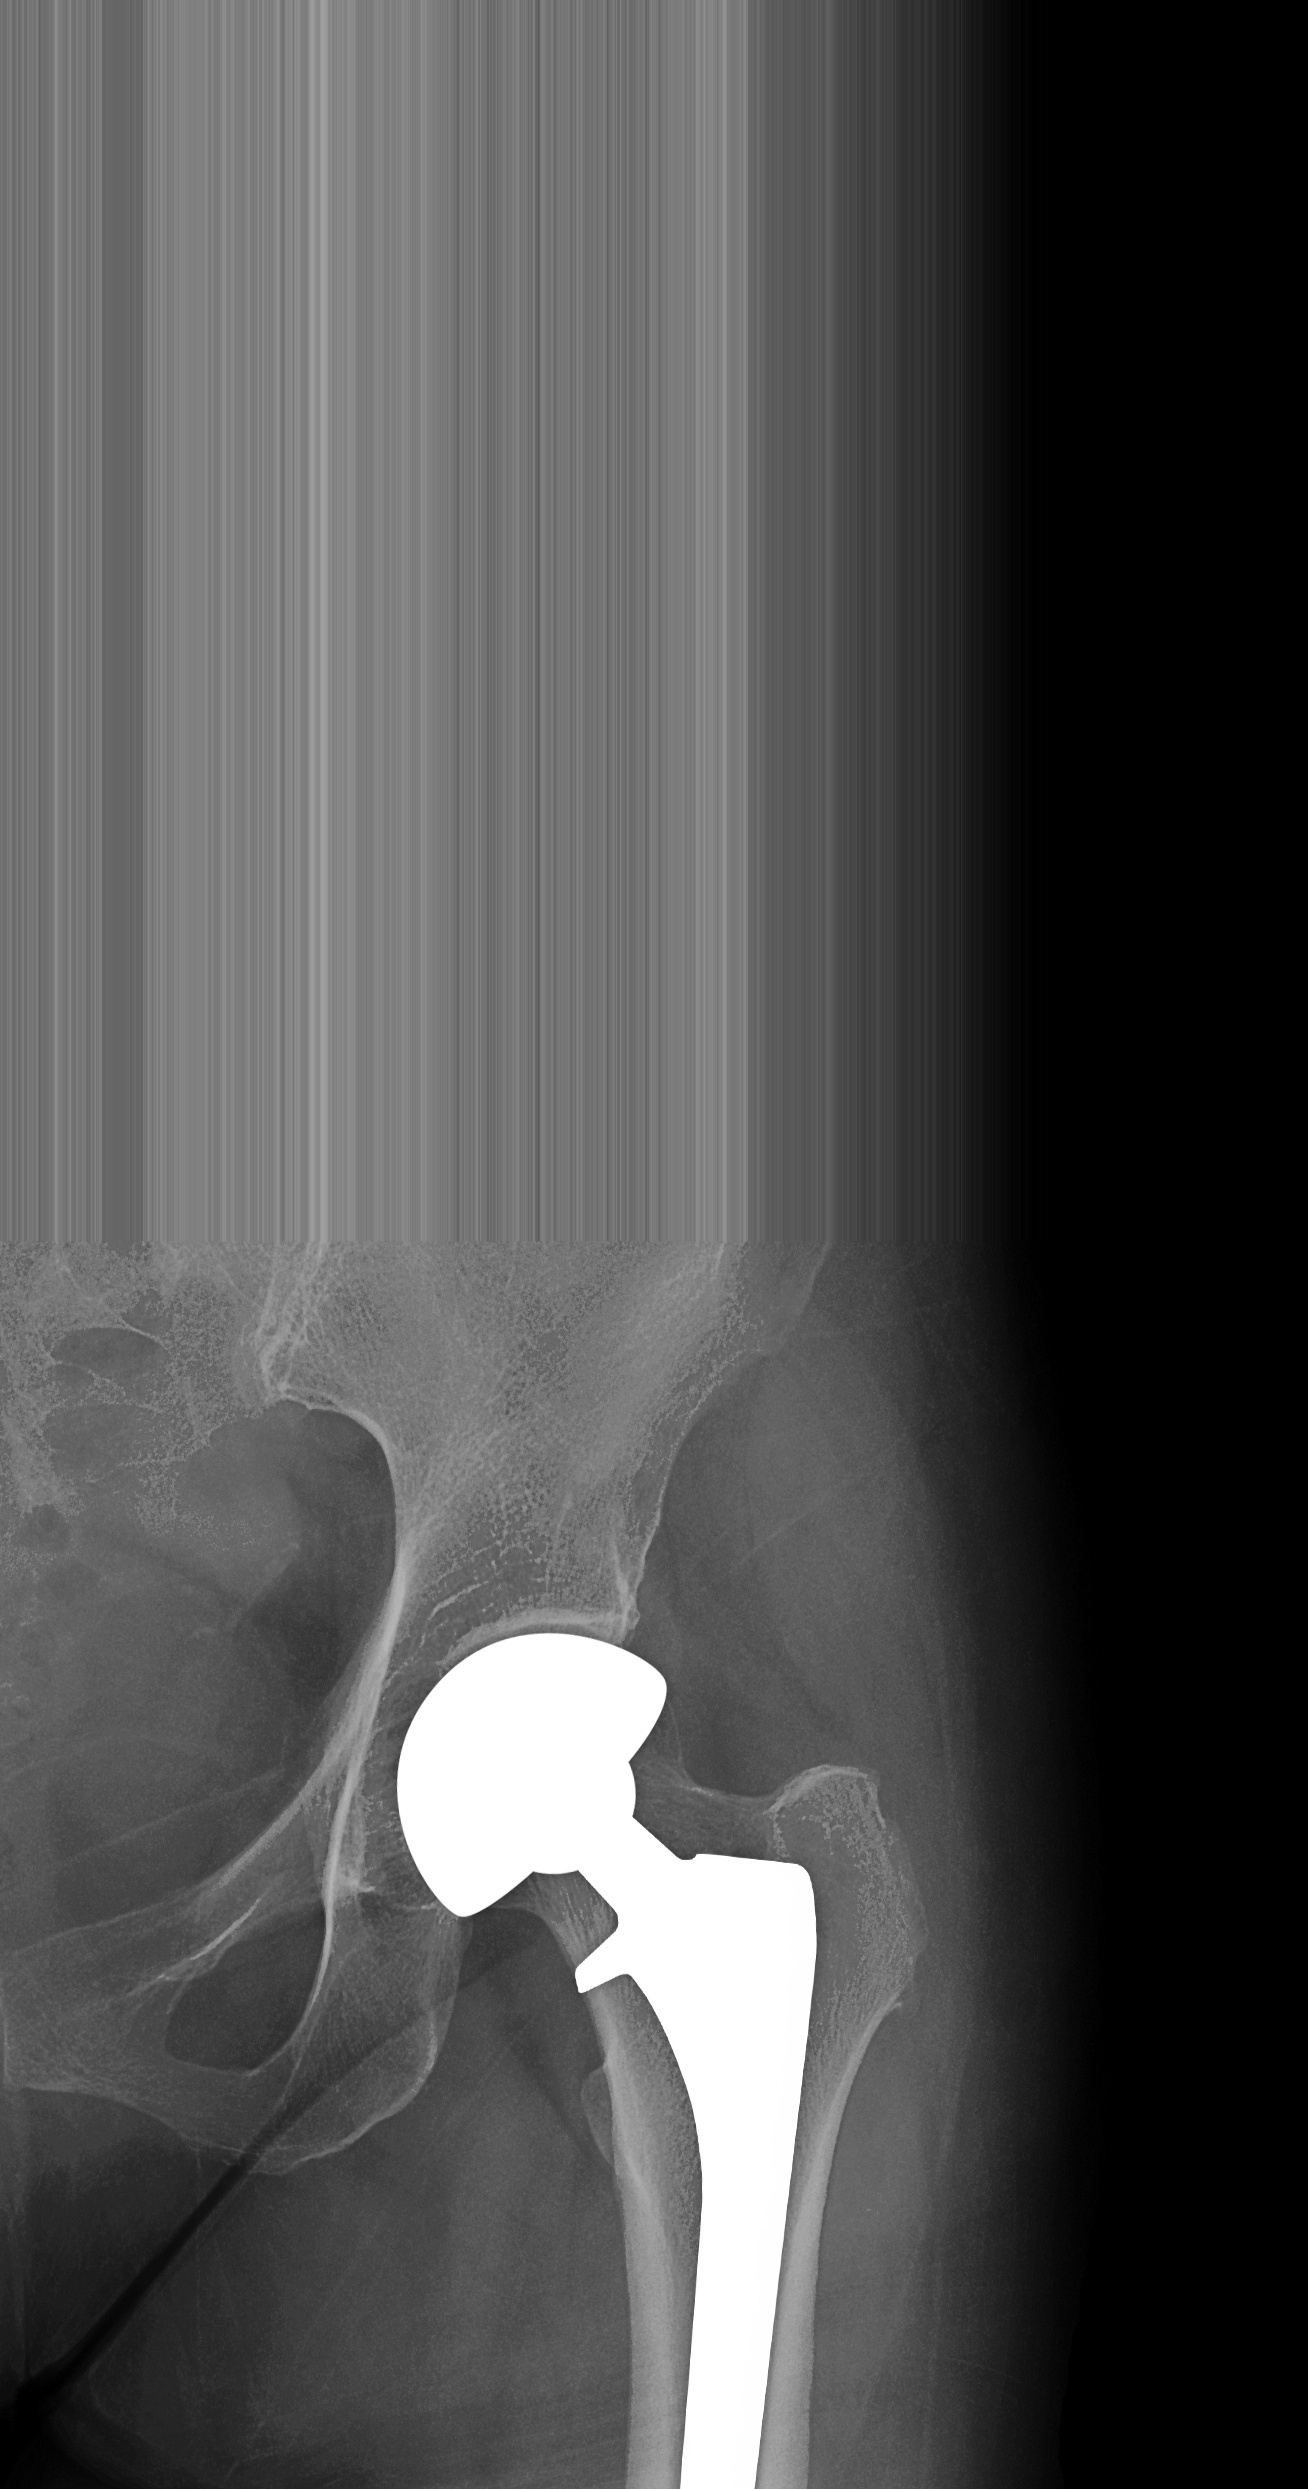Hip - APR - Zimmer: (352, 1608, 903, 2489)
